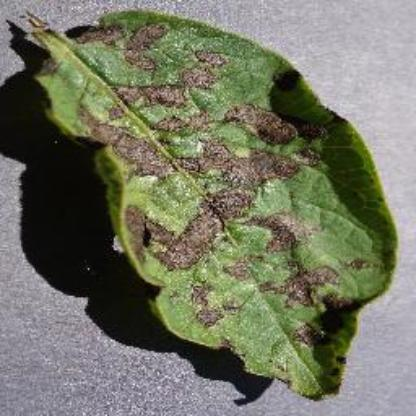Early-Blight: (10, 0, 399, 406)
